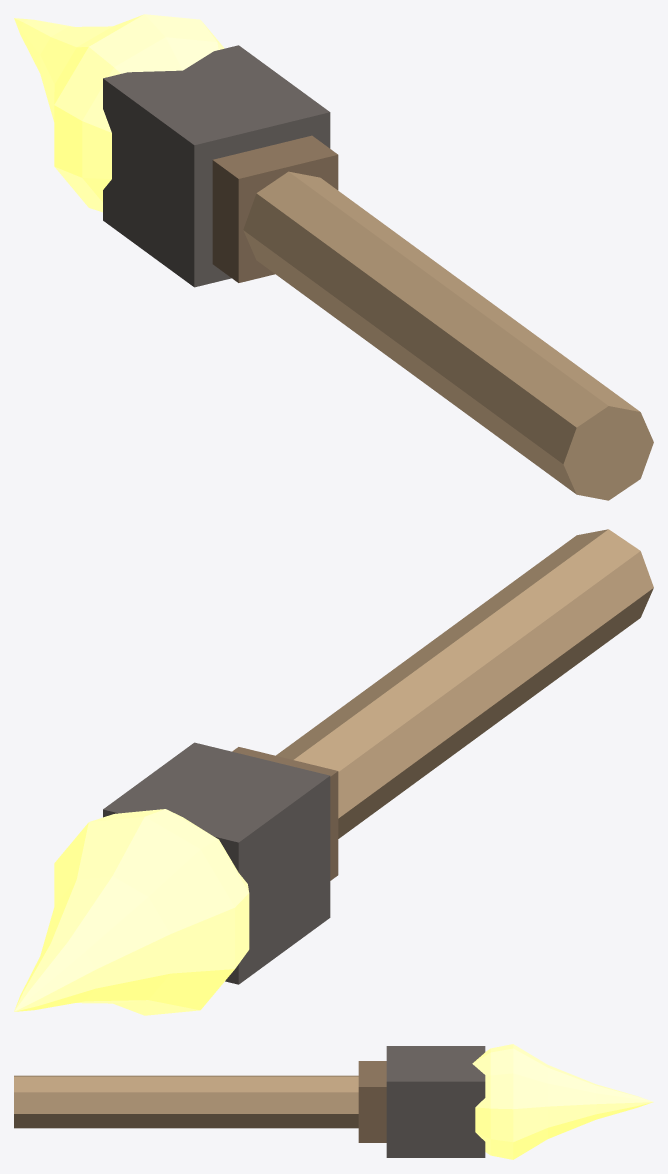
Rendered from torch_held.gltf.
3 views of the same model, one above another, from view 1: azimuth 30°, elevation 25°; view 2: azimuth 150°, elevation 25°; view 3: azimuth 270°, elevation 25° (orthographic). The views are drawn at different scales.
Parts seen in each view (by area): view 1: torch_held; view 2: torch_held; view 3: torch_held.
Boxes of the visible parts, x1=… form: torch_held: x1=14, y1=14, x2=653, y2=500; torch_held: x1=14, y1=529, x2=653, y2=1015; torch_held: x1=14, y1=1044, x2=653, y2=1159.
Size of the model in its own units: 0.0799 by 0.084 by 0.455.
